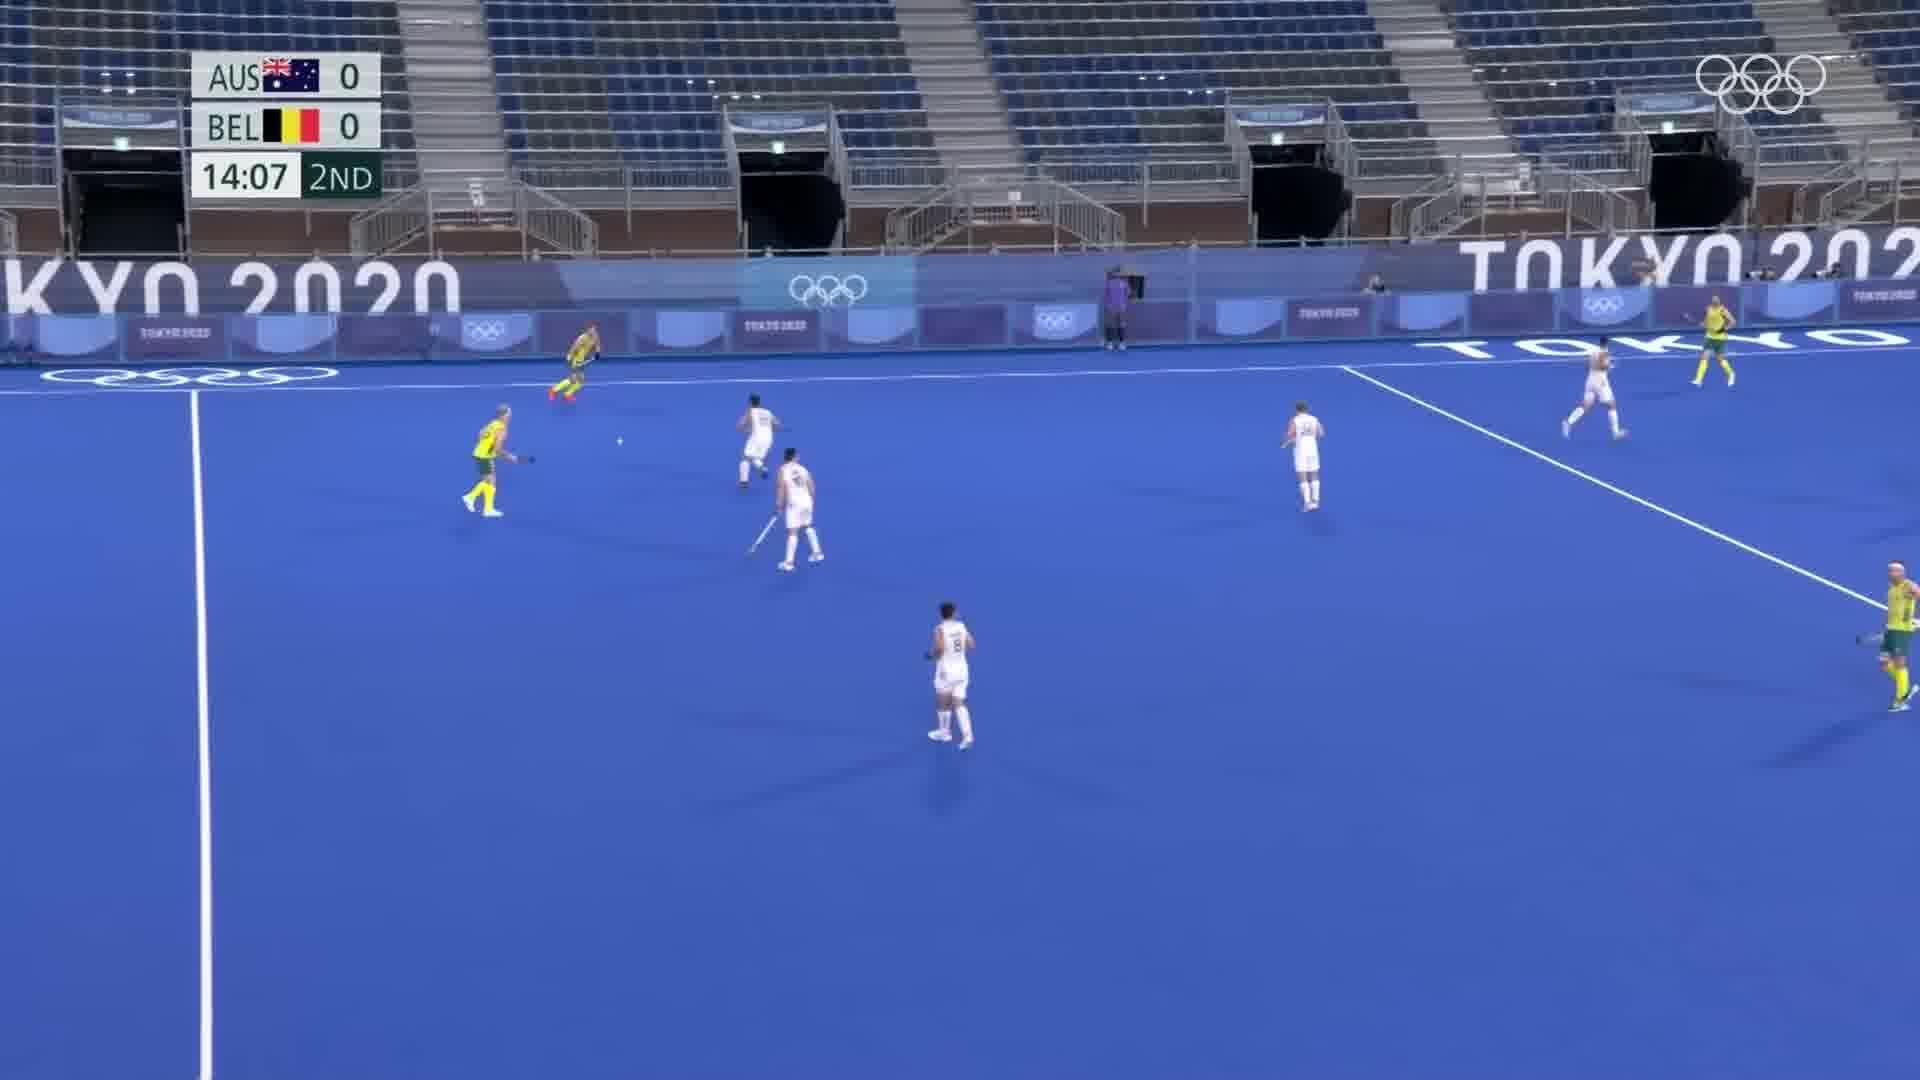ball: (612, 435, 628, 448)
